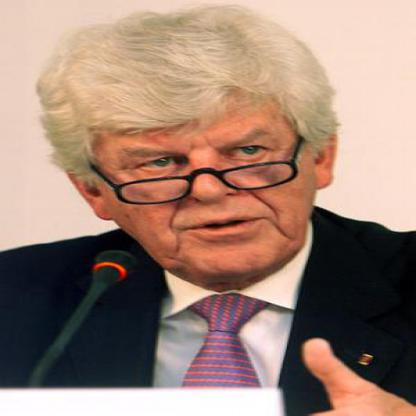face: (95, 37, 314, 285)
